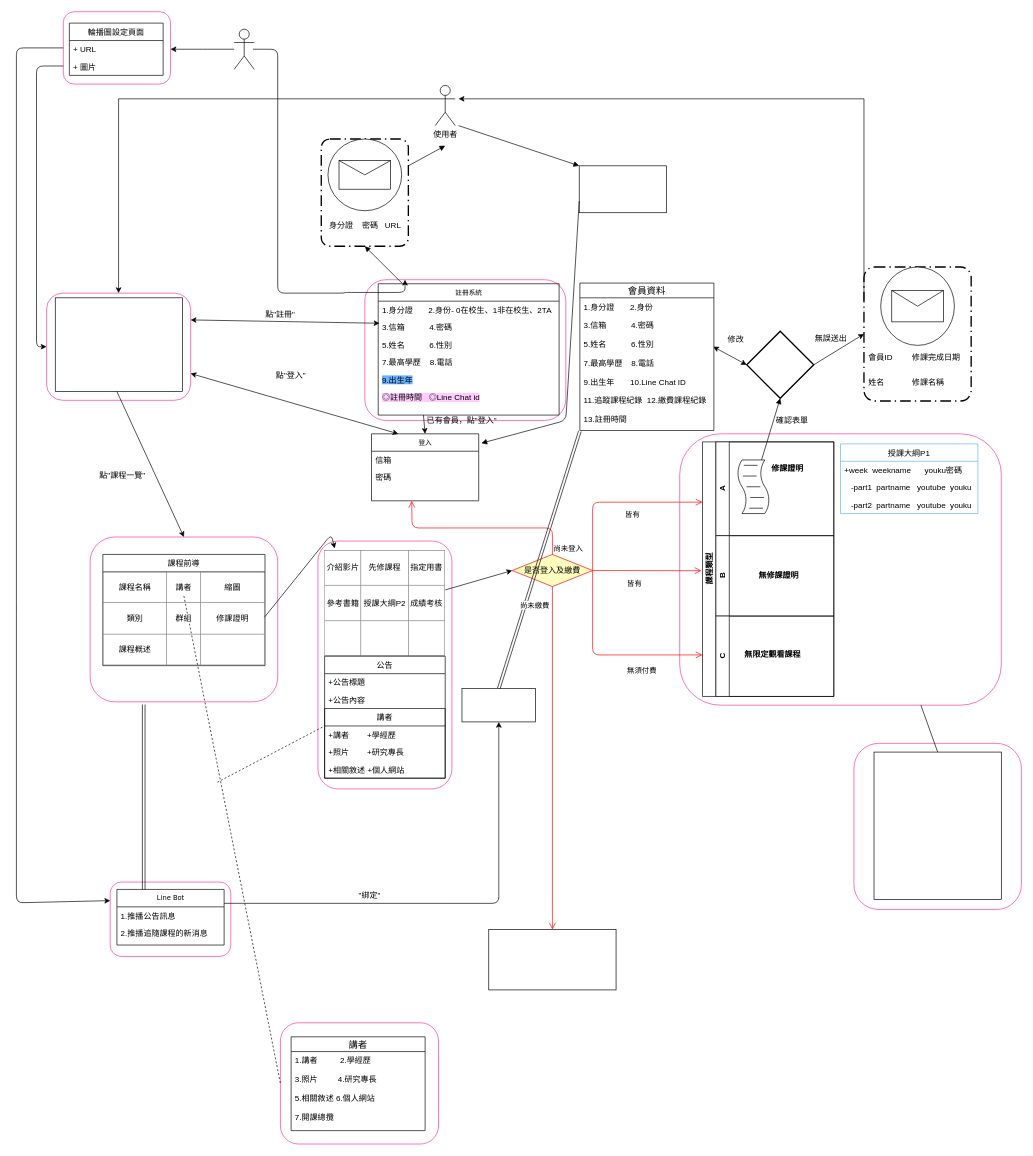
This 1033x1156 diagram has some shape labels left out. Here are the shapes that lost their labels. From the top down, the centre of each, then its label:
the point at 243,48: 行政人員
the point at 622,189: 特殊管道 更改資料 新增信箱
the point at 119,344: <<>> 首頁 + 輪播圖 + 簡介本網站特色 + 正在開課課程 + 準備開課課程 + 回饋精華
the point at 498,705: Line綁入會員頁面
the point at 937,825: 回饋表單 + 是否有使用其他平台經驗 + 意見回饋
the point at 552,959: 繳費系統 + 郵局 + 銀行 + 便利商店
